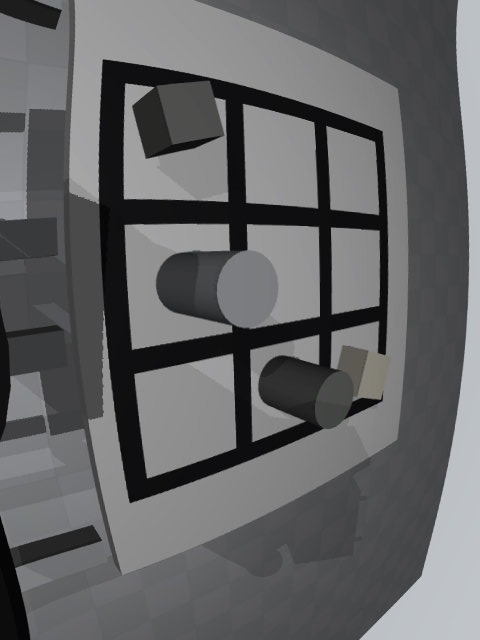can: (156, 250, 279, 328)
cube: (132, 80, 224, 159)
cylinder: (258, 355, 354, 429)
foam: (337, 345, 391, 400)
